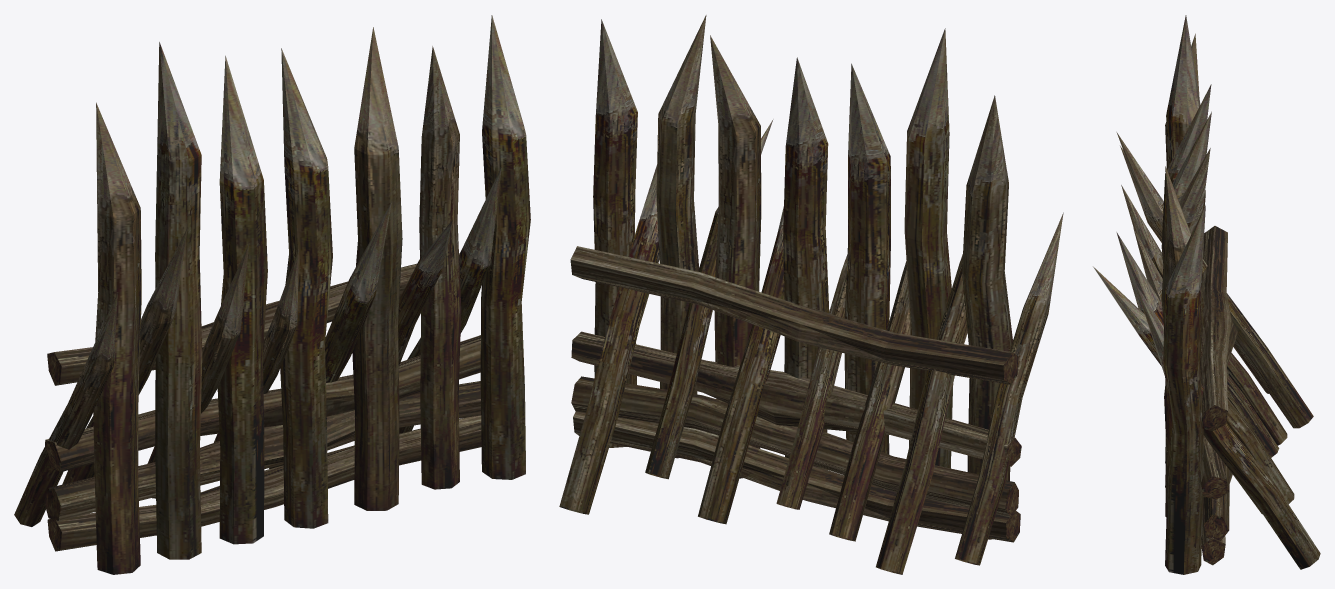
3 views of the same model, side by side, from view 1: azimuth 30°, elevation 25°; view 2: azimuth 150°, elevation 25°; view 3: azimuth 270°, elevation 25° (orthographic). The views are drawn at different scales.
Parts seen in each view (by area): view 1: Box01; view 2: Box01; view 3: Box01.
Boxes of the visible parts, left/top/right/bottom form: Box01: left=14, top=15, right=530, bottom=574; Box01: left=559, top=15, right=1063, bottom=574; Box01: left=1093, top=15, right=1320, bottom=574.
Size of the model in its own units: 3.95 by 4.36 by 2.1.
